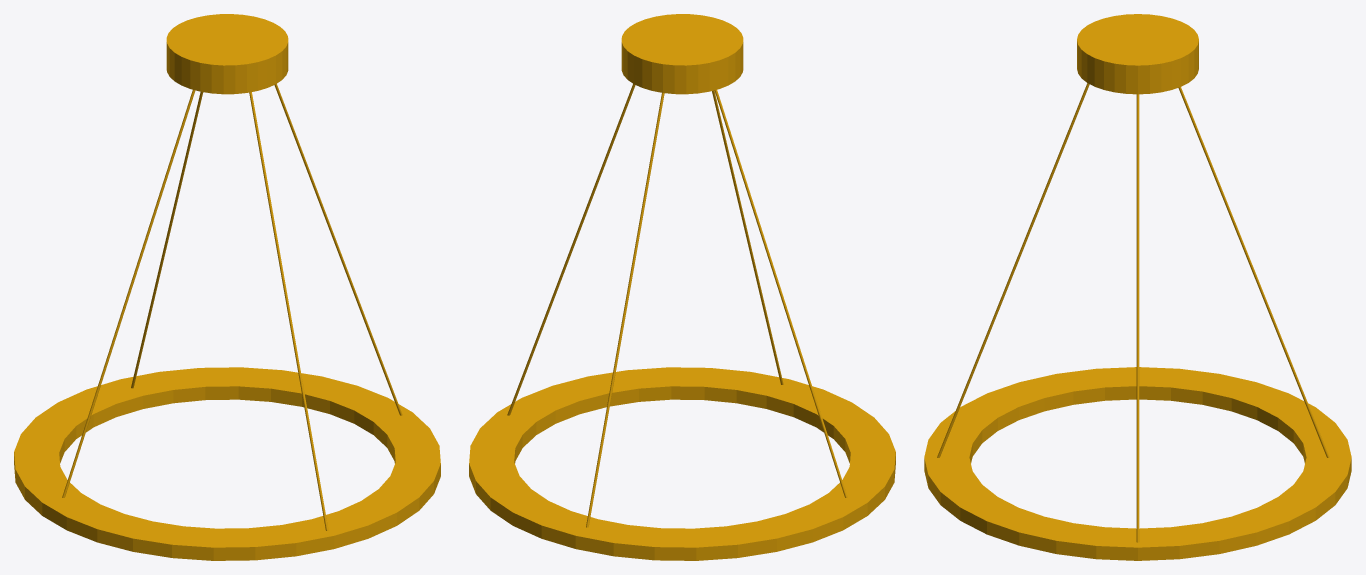
Rendered from WindChimesBase.fbx.
The picture shows the model from 3 angles, left to right: view 1: azimuth 30°, elevation 25°; view 2: azimuth 150°, elevation 25°; view 3: azimuth 270°, elevation 25°; orthographic projection.
Visible parts, largest first — view 1: BottomBase, TopHangingBase, HangingStringW, HangingStringN, HangingStringS, HangingStringE; view 2: BottomBase, TopHangingBase, HangingStringE, HangingStringN, HangingStringS, HangingStringW; view 3: BottomBase, TopHangingBase, HangingStringS, HangingStringW, HangingStringE.
Part boxes in pixels (bbox=[...]): BottomBase: bbox=[14, 367, 440, 560]; TopHangingBase: bbox=[166, 14, 288, 94]; HangingStringW: bbox=[249, 92, 328, 530]; HangingStringN: bbox=[62, 90, 195, 497]; HangingStringS: bbox=[274, 84, 402, 415]; HangingStringE: bbox=[131, 92, 203, 388]; BottomBase: bbox=[469, 367, 895, 560]; TopHangingBase: bbox=[621, 14, 743, 94]; HangingStringE: bbox=[586, 93, 664, 527]; HangingStringN: bbox=[714, 90, 847, 497]; HangingStringS: bbox=[507, 84, 635, 415]; HangingStringW: bbox=[712, 90, 783, 384]; BottomBase: bbox=[924, 367, 1351, 560]; TopHangingBase: bbox=[1077, 14, 1198, 94]; HangingStringS: bbox=[1136, 94, 1139, 542]; HangingStringW: bbox=[937, 83, 1089, 457]; HangingStringE: bbox=[1178, 87, 1329, 457].
Bounding box in the file's own units: 700 × 785 × 700.
